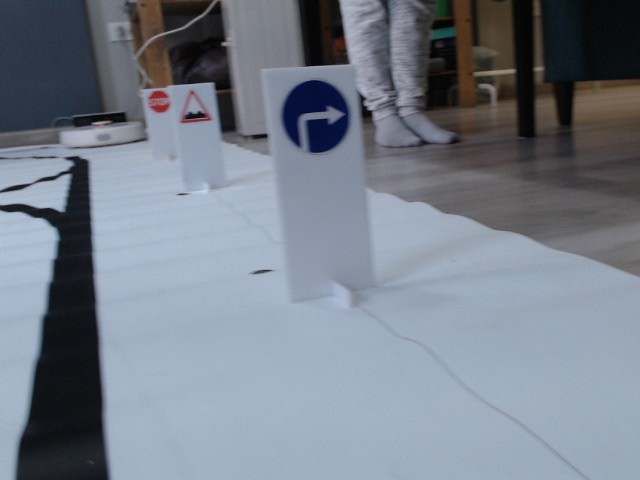Nerov: (178, 89, 213, 123)
Right: (278, 77, 352, 156)
Stop: (146, 89, 170, 113)
